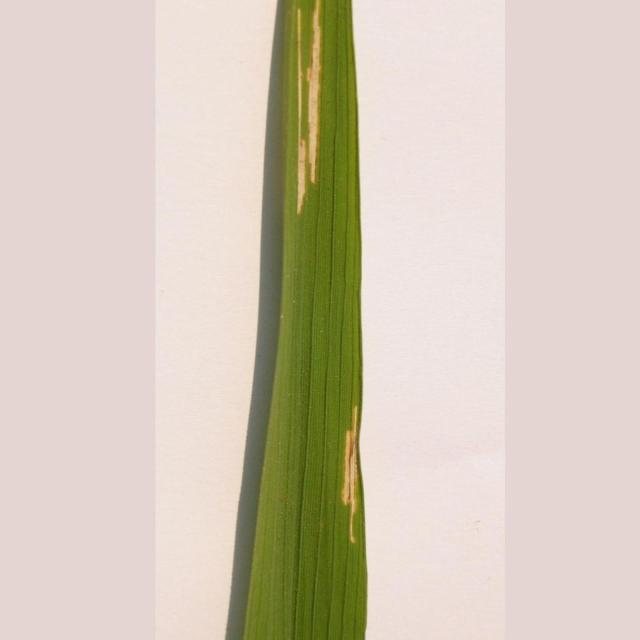Bacterial_Leaf_Blight: (265, 0, 350, 210), (330, 376, 368, 566)
